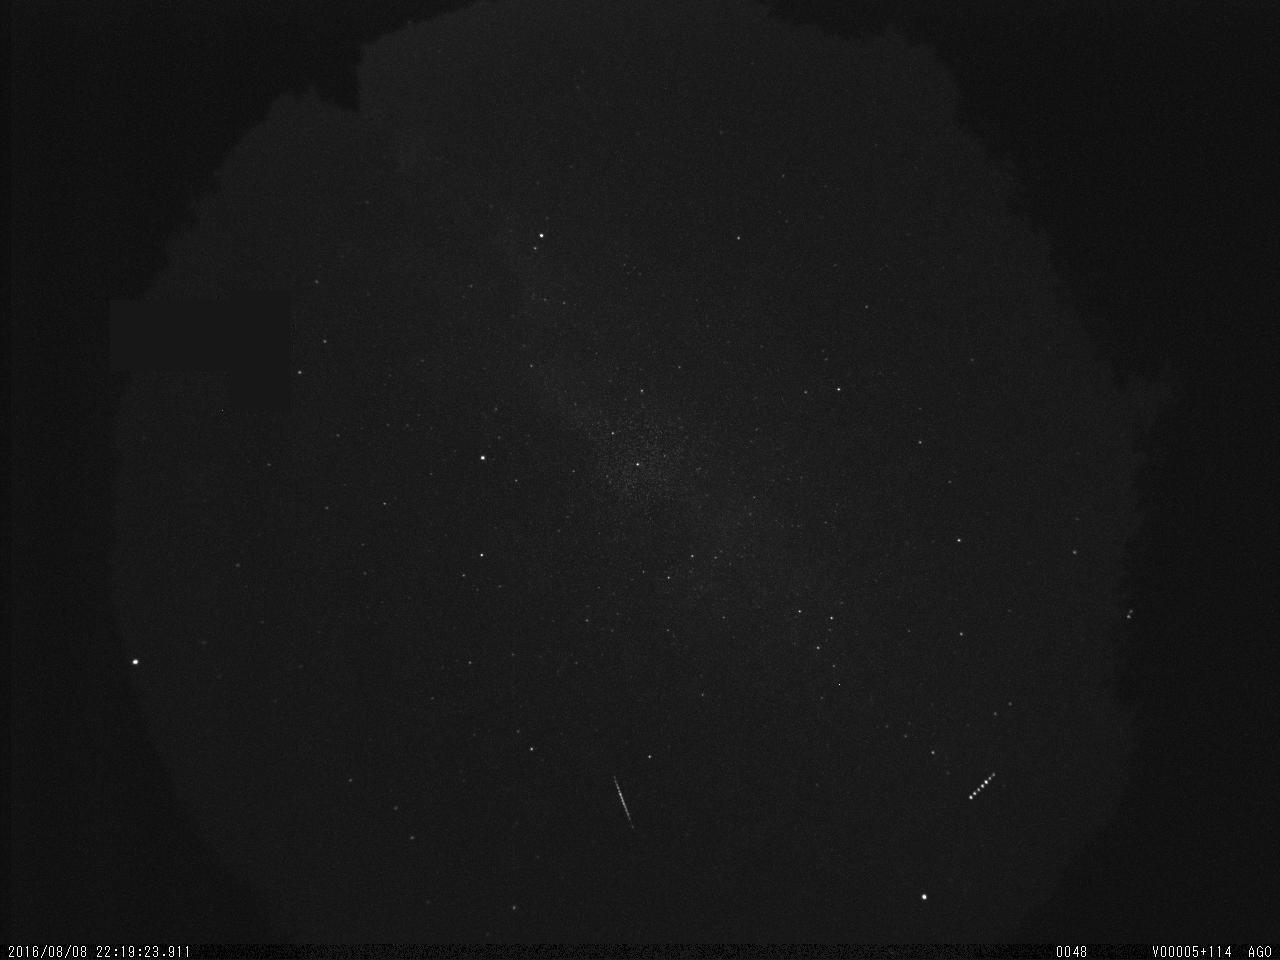meteor: (607, 765, 640, 833)
satelite: (968, 760, 1000, 805)
